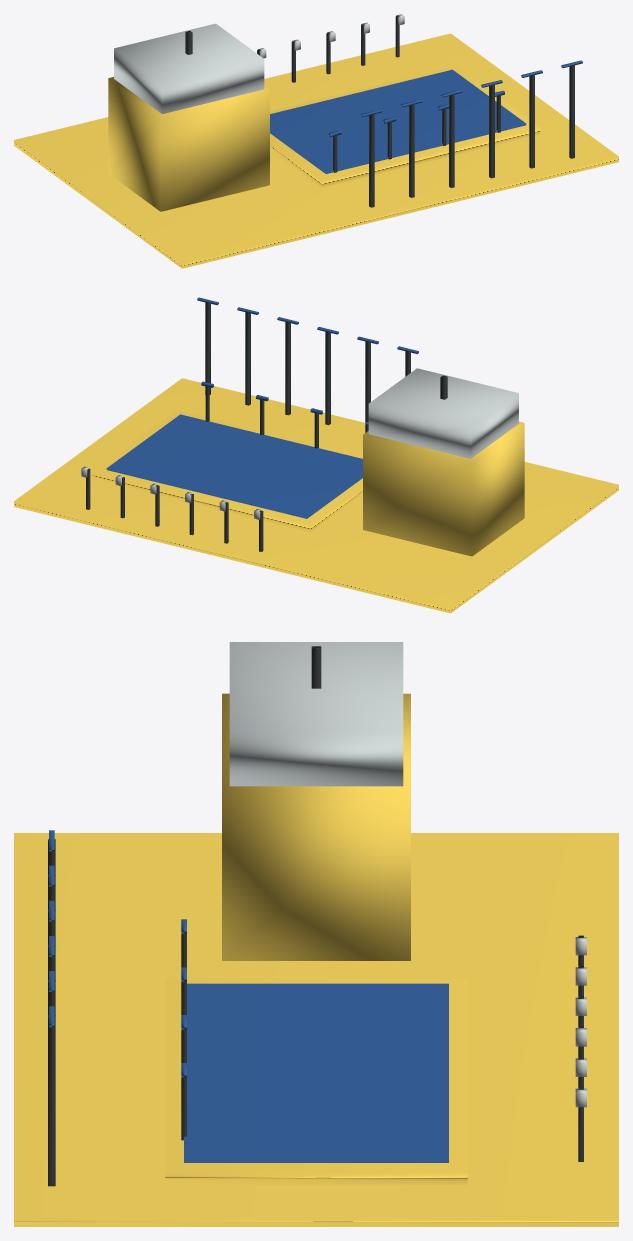
3 renders of one model, top to bottom at view 1: azimuth 30°, elevation 25°; view 2: azimuth 150°, elevation 25°; view 3: azimuth 270°, elevation 25°, orthographic. The views are drawn at different scales.
Parts seen in each view (by area): view 1: plaza_simplified, features_simplified; view 2: plaza_simplified, features_simplified; view 3: plaza_simplified, features_simplified.
Part boxes in pixels (x1,y1,x2,y2): plaza_simplified: (14, 33, 618, 268); features_simplified: (114, 14, 582, 207); plaza_simplified: (14, 378, 618, 613); features_simplified: (81, 297, 518, 551); plaza_simplified: (14, 693, 618, 1226); features_simplified: (48, 642, 586, 1186).
Size of the model in its own units: 48 by 16.05 by 32.
2 materials, 2 textured.
